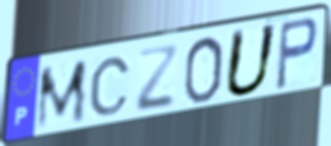C: (88, 55, 133, 118)
M: (34, 56, 89, 133)
O: (181, 33, 226, 106)
P: (273, 15, 320, 93)
U: (221, 21, 281, 99)
Z: (134, 44, 180, 115)
